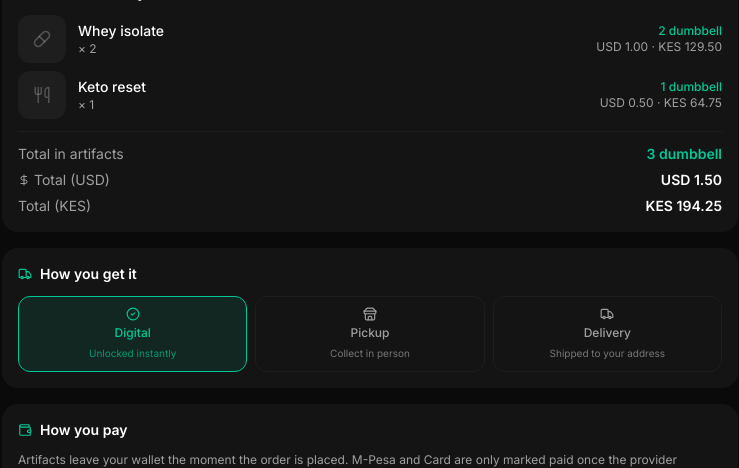
it: CheckoutPage pickup station picker › lists stations nearest first with distance and opening hours
Click the button "Pickup Collect in person" at (370, 334), box [255,296,485,372]
(page scrolled)
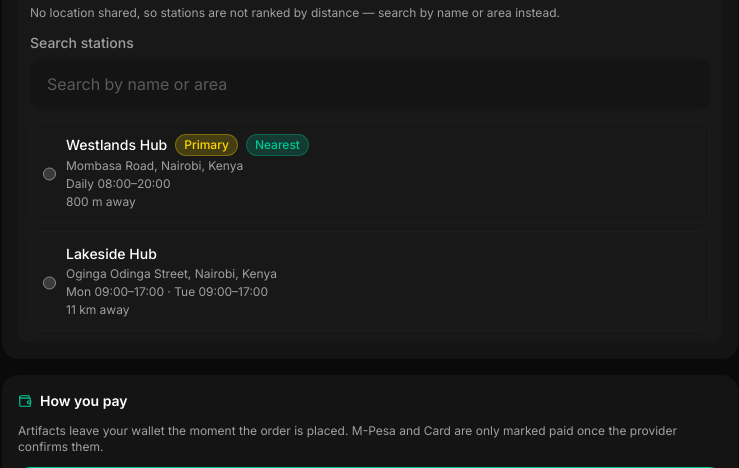
expect the radio button labelled "Westlands Hub" is shown: met, box [43,138,56,210]
expect the number of radio buttons is 2: met, box [43,138,56,210]; [43,248,56,318]
expect the text "Westlands Hub" is shown: met, box [66,135,167,155]
